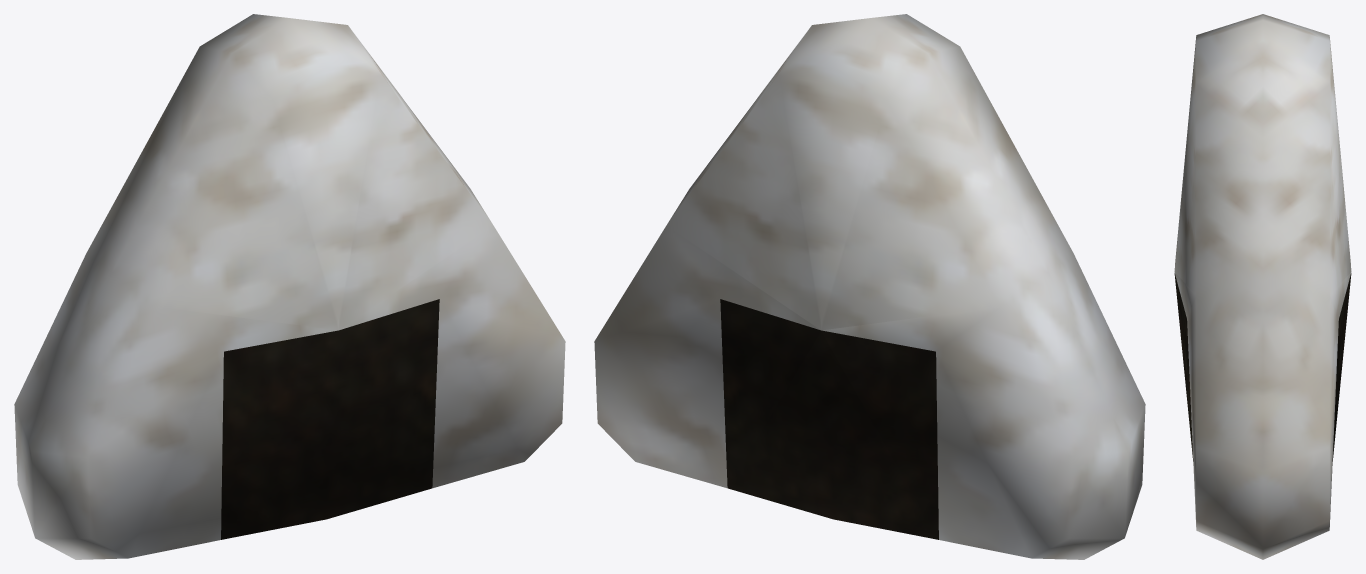
File: Onigiri.fbx
3 views of the same model, side by side, from view 1: azimuth 30°, elevation 25°; view 2: azimuth 150°, elevation 25°; view 3: azimuth 270°, elevation 25° (orthographic). The views are drawn at different scales.
Parts seen in each view (by area): view 1: Onigiri; view 2: Onigiri; view 3: Onigiri.
Part boxes in pixels (bbox=[...]): Onigiri: bbox=[14, 14, 565, 559]; Onigiri: bbox=[594, 14, 1145, 559]; Onigiri: bbox=[1174, 14, 1351, 559].
Bounding box in the file's own units: 175 × 159 × 57.33.
